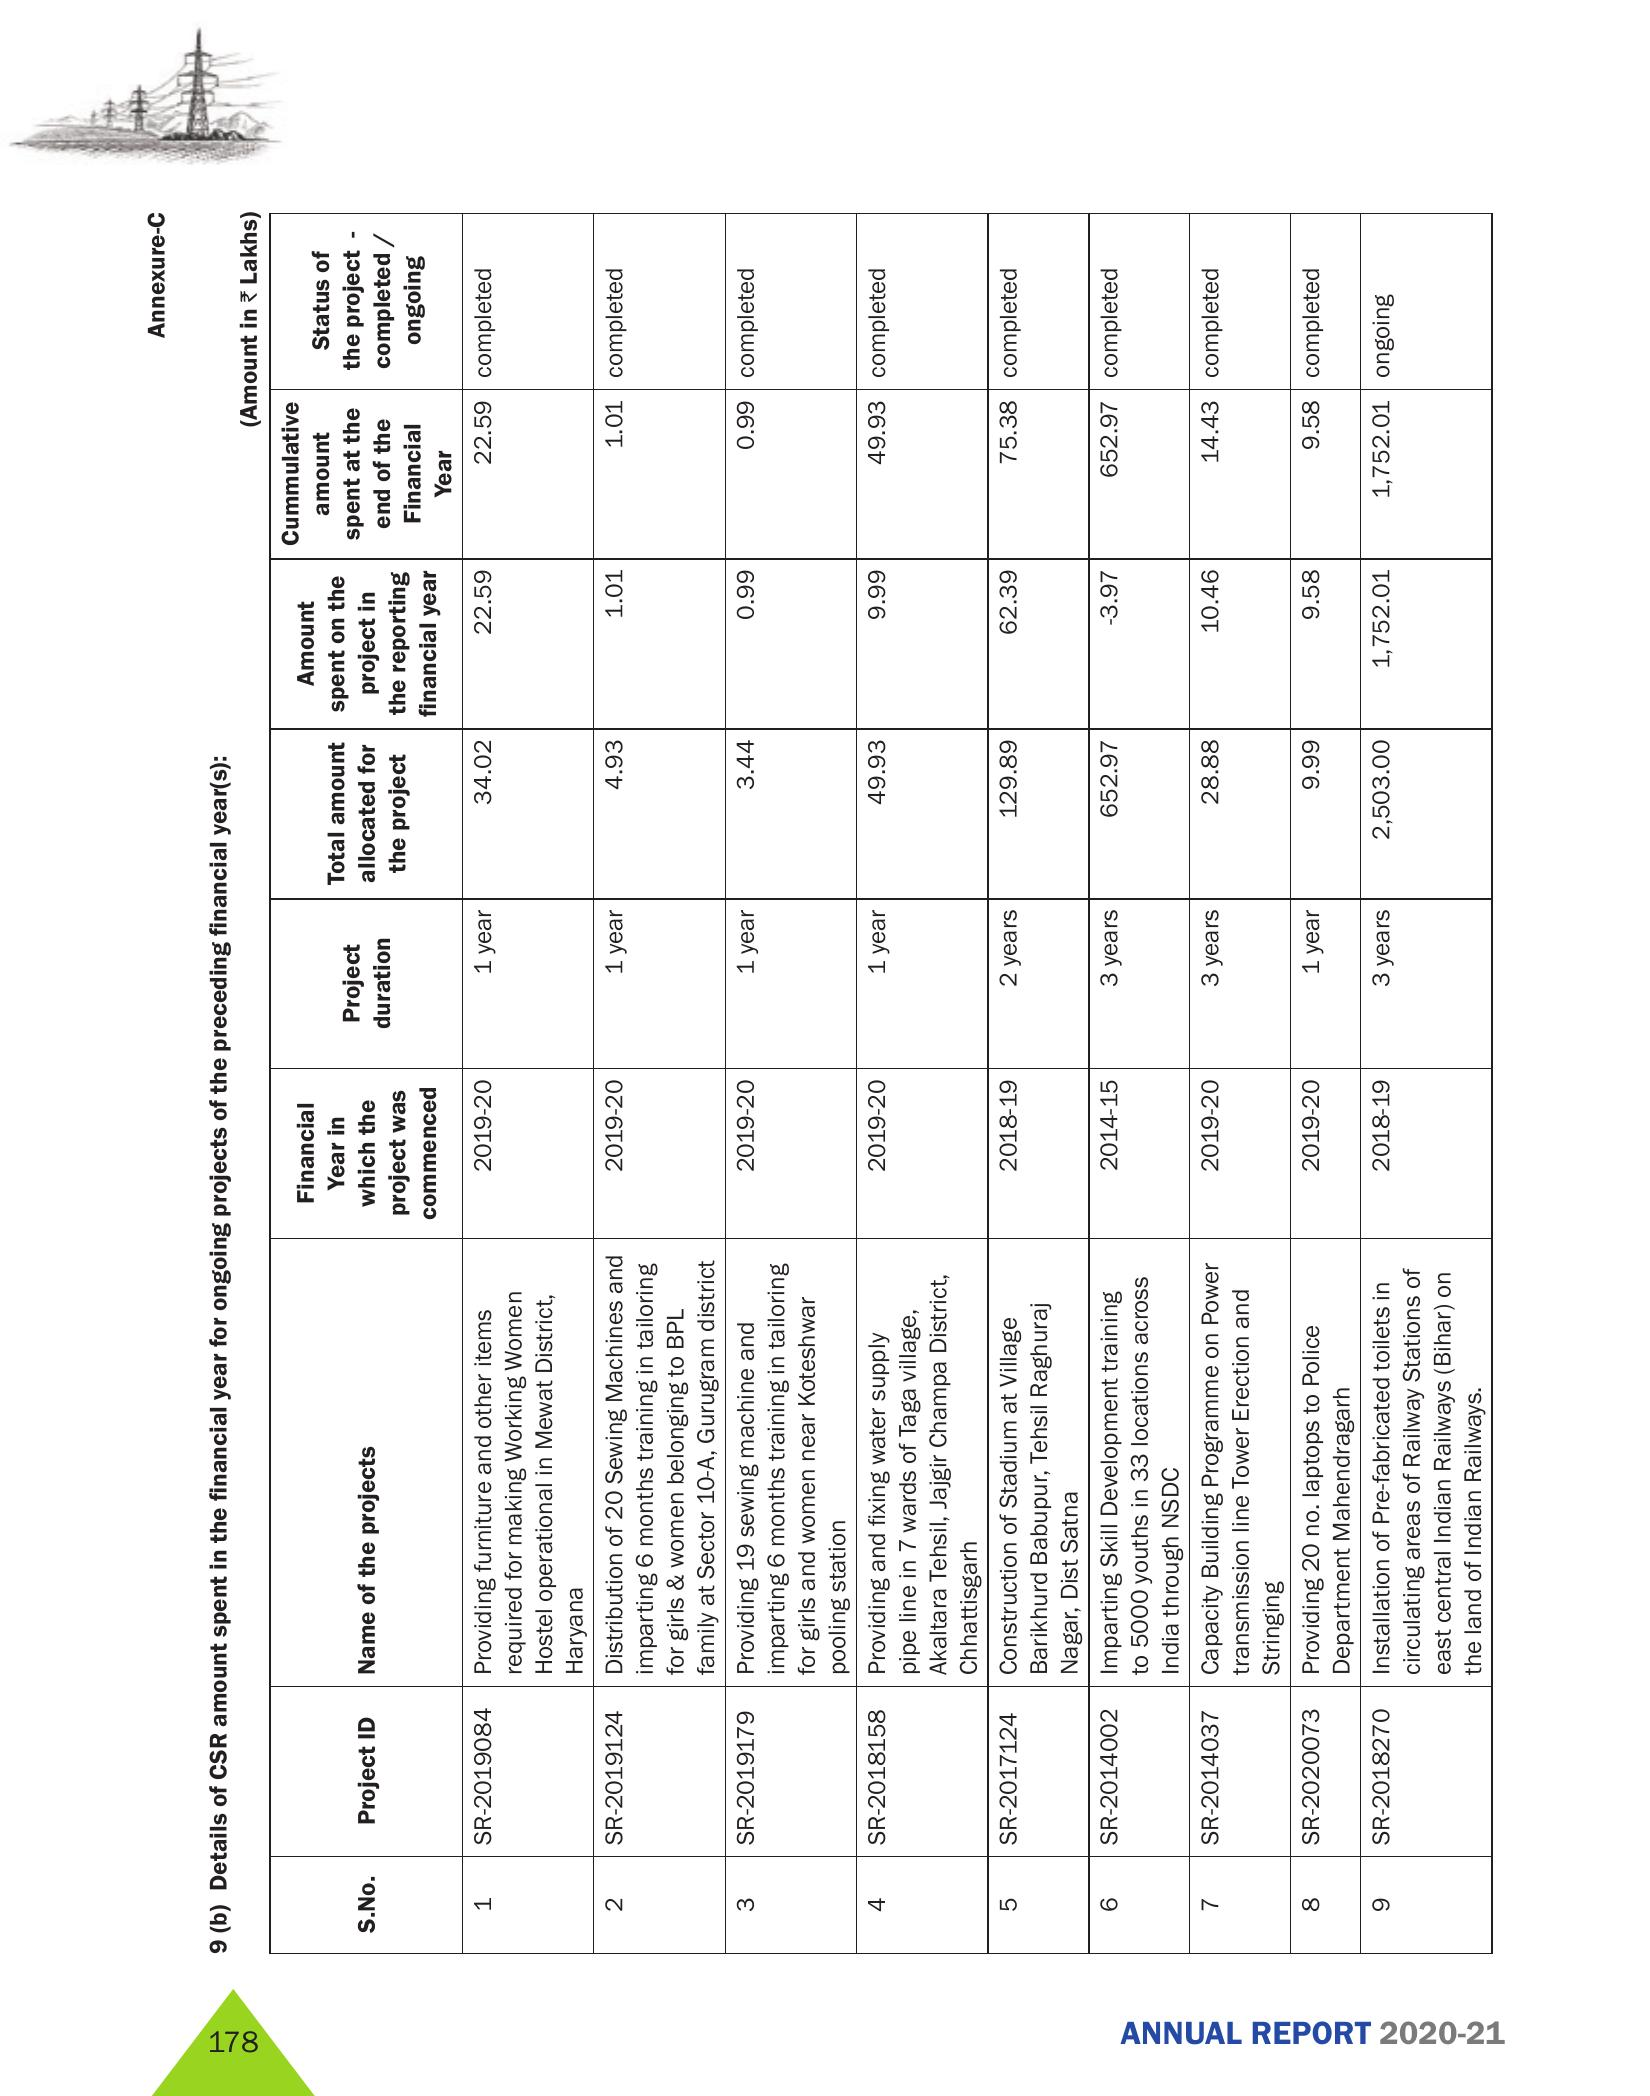Footer: (0, 1982, 1650, 2096)
Header: (0, 0, 1650, 184)
Table: (228, 204, 1524, 1965)
